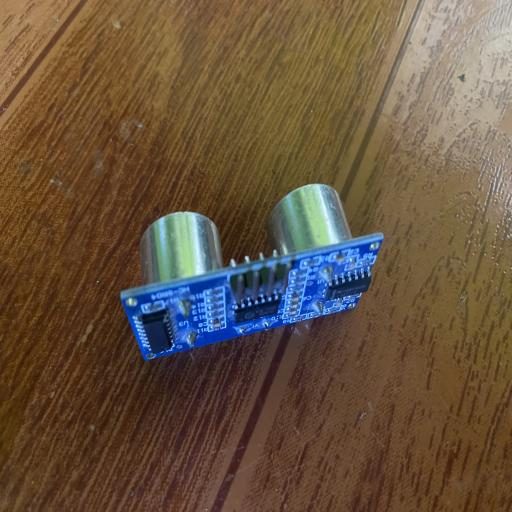Ultrasonic Sensor: (120, 183, 384, 361)
